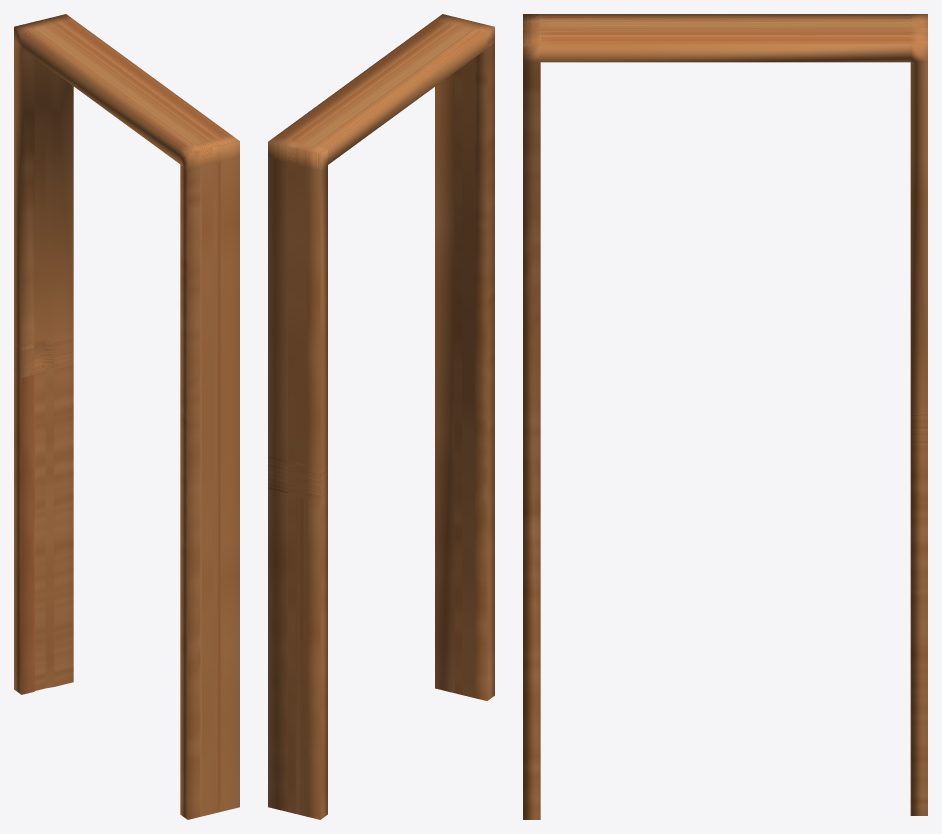
File: Marcopuerta.obj
3 views of the same model, side by side, from view 1: azimuth 30°, elevation 25°; view 2: azimuth 150°, elevation 25°; view 3: azimuth 270°, elevation 25° (orthographic). The views are drawn at different scales.
Bounding box in the file's own units: 2.94 × 35.88 × 16.96.
1 material, 1 textured.
